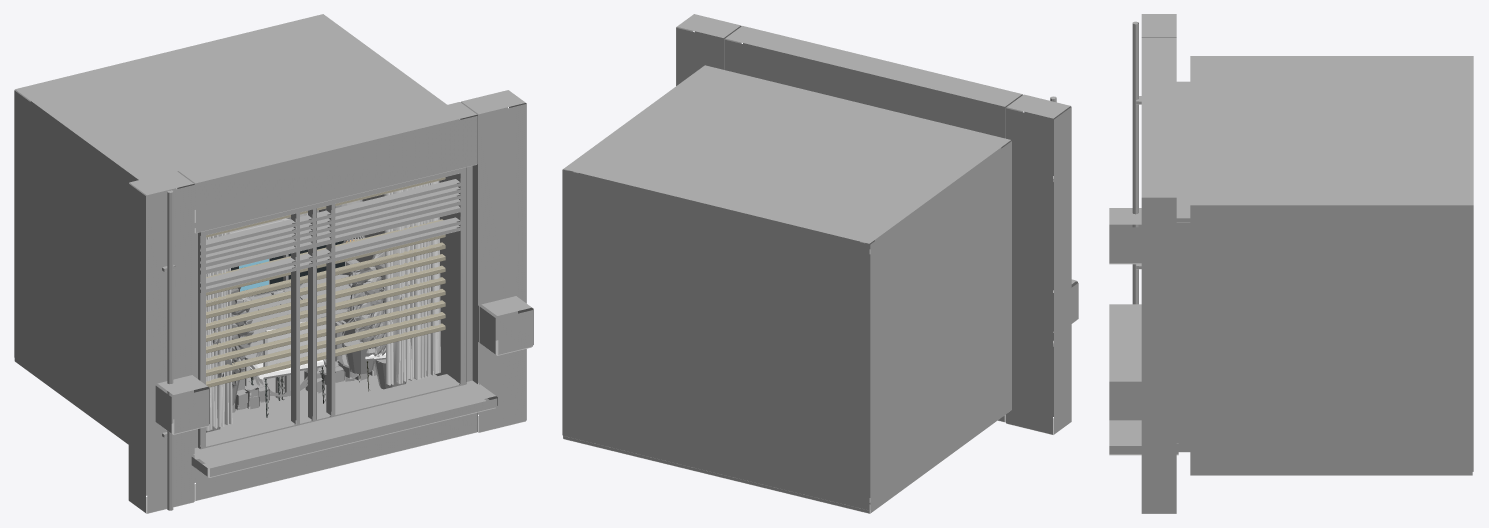
Rendered from new-homes.glb.
The picture shows the model from 3 angles, left to right: view 1: azimuth 30°, elevation 25°; view 2: azimuth 150°, elevation 25°; view 3: azimuth 270°, elevation 25°; orthographic projection.
Visible parts, largest first — view 1: room_001_static, room_002_blind_panel.001, room_008_static, room_005_static, room_003_static, room_006_static, room_004_static, room_002_static, room_012_static, room_003_curtain_right.001, room_009_static, room_007_static (+11 smaller); view 2: room_001_static; view 3: room_001_static, room_002_static, room_006_static, room_008_static.
Part boxes in pixels (x1,y1,x2,y2): room_001_static: (14,14,526,513); room_002_blind_panel.001: (206,177,445,387); room_008_static: (167,190,462,510); room_005_static: (200,217,460,405); room_003_static: (168,190,460,416); room_006_static: (155,317,370,434); room_004_static: (200,204,460,421); room_002_static: (167,190,533,396); room_012_static: (200,178,463,391); room_003_curtain_right.001: (384,182,436,385); room_009_static: (200,186,463,255); room_007_static: (200,193,460,394); room_001_static: (562,14,1071,513); room_001_static: (1109,14,1473,513); room_002_static: (1109,21,1141,421); room_006_static: (1109,208,1141,264); room_008_static: (1132,23,1138,304).
Bounding box in the file's own units: 4.3 × 3.45 × 3.62.
